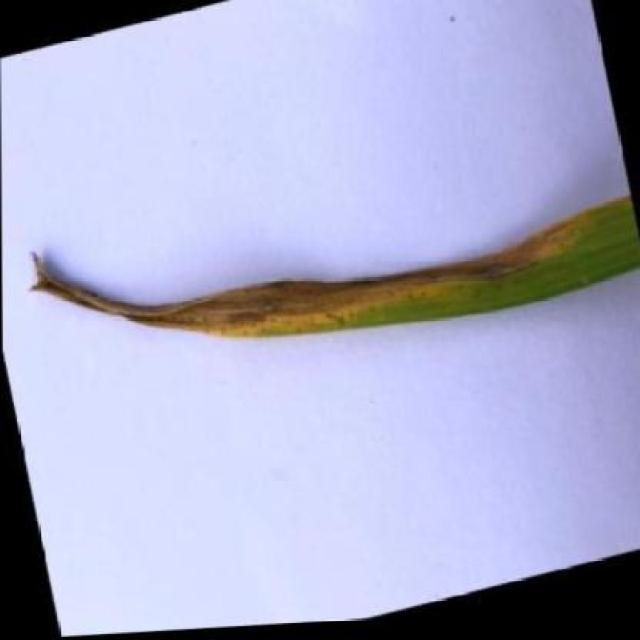Rice False Smut: (7, 83, 640, 426)
